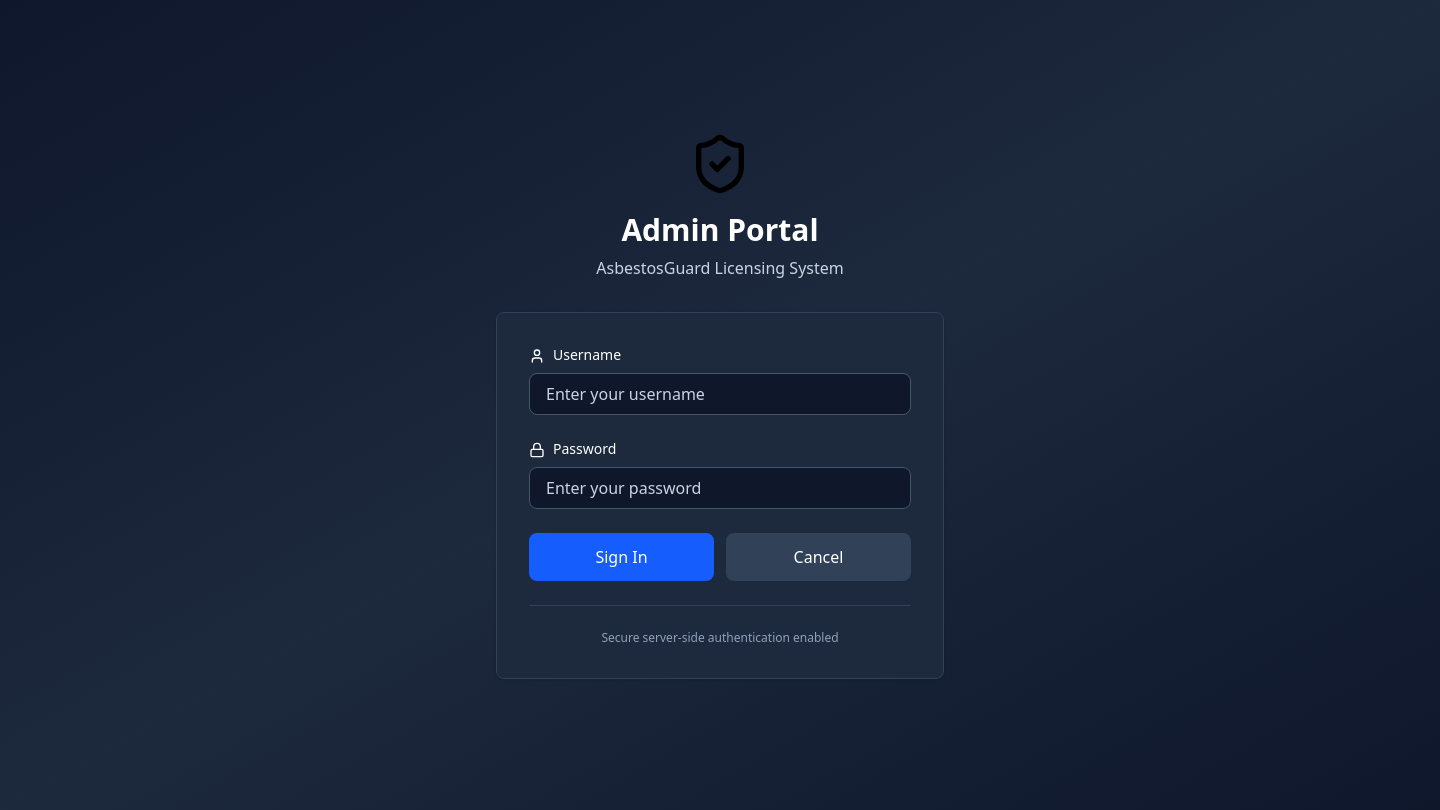
Scenario: AdminLogin Component › form validation › should show error when password is empty
Type "admin" into the field labelled "Username".
click(720, 394); type("admin")  # box [529, 372, 911, 414]
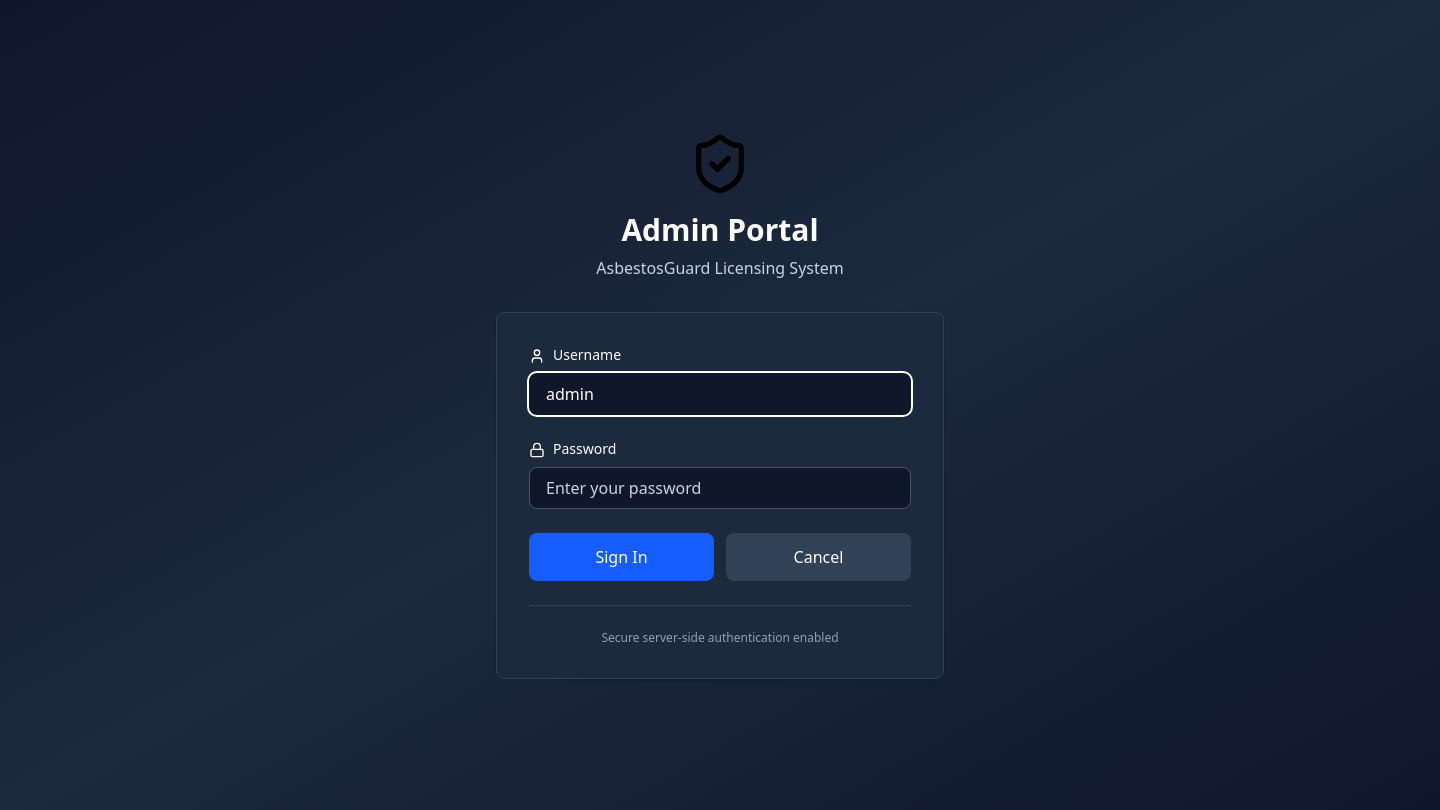
Click the button "Sign In".
click(622, 556)  # box [529, 532, 714, 580]
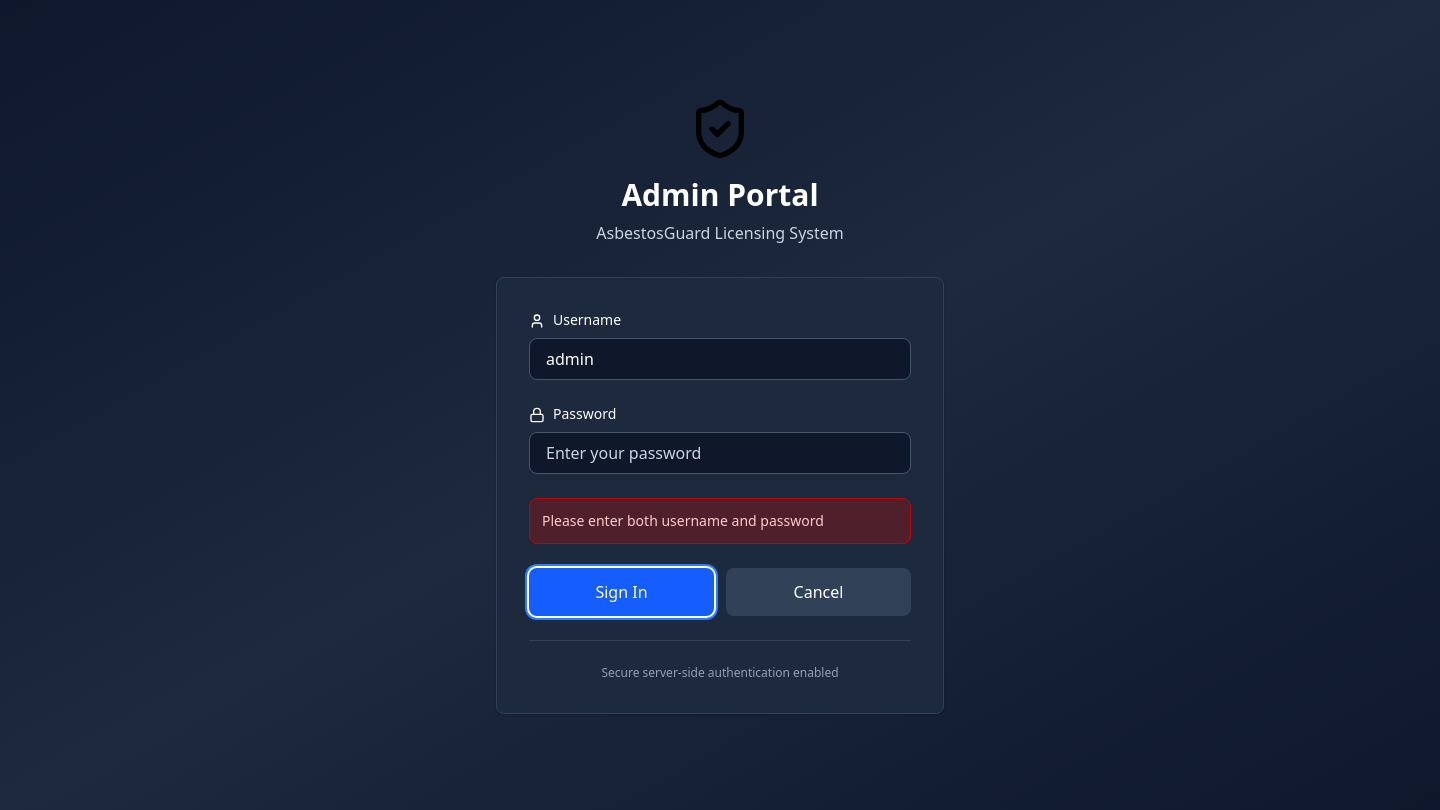
Expected: the text "Please enter both username and password" is shown, [529, 498, 911, 544]
